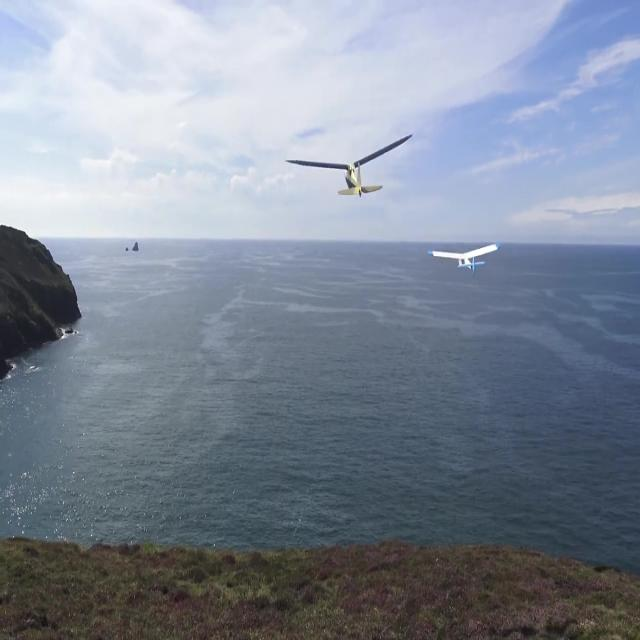iha: (285, 164, 414, 166), (462, 241, 467, 276)
